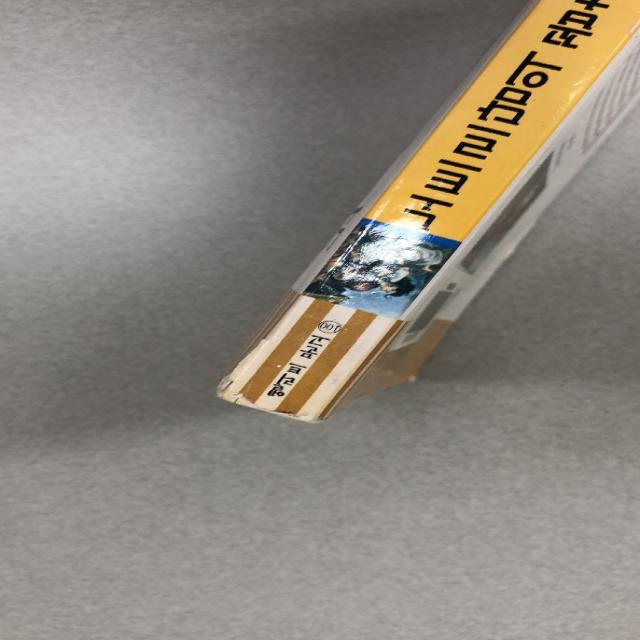Ripped: (211, 336, 275, 408)
Wornout: (259, 407, 337, 426)
